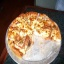pizza: (6, 11, 64, 57)
